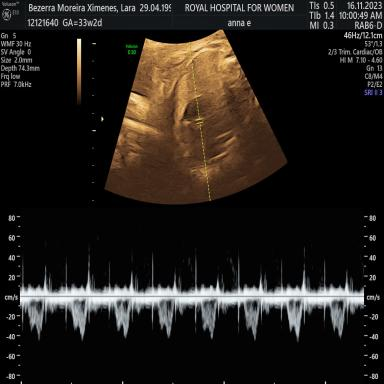Ultrasound-Waves: (28, 215, 362, 384)
